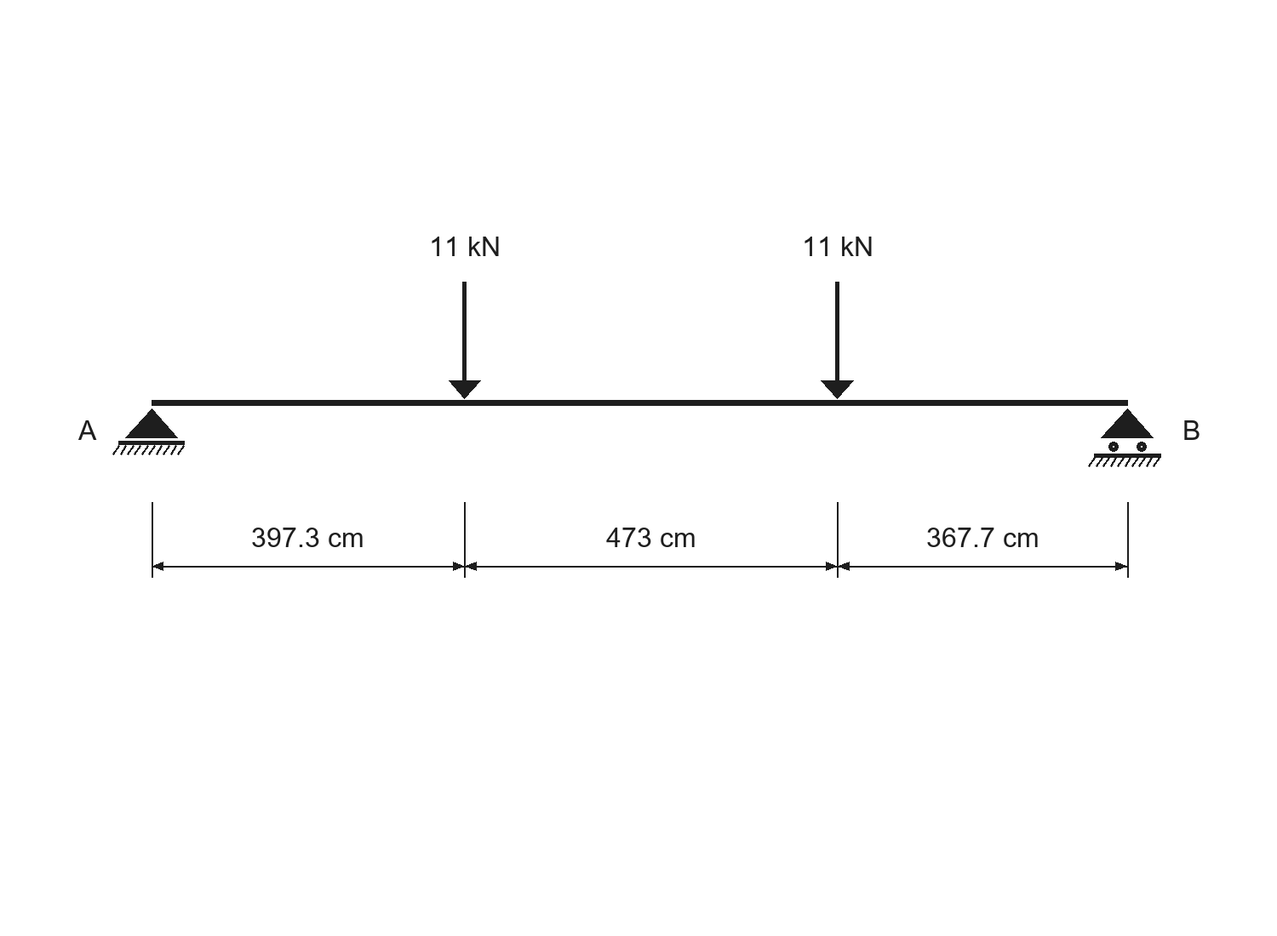pin_support: (112, 408, 185, 455)
point_load: (821, 282, 854, 399), (449, 282, 481, 399)
roller_support: (1088, 408, 1161, 467)
